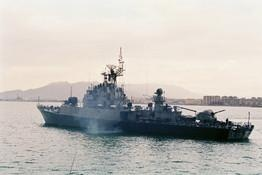warship: (37, 49, 257, 143)
